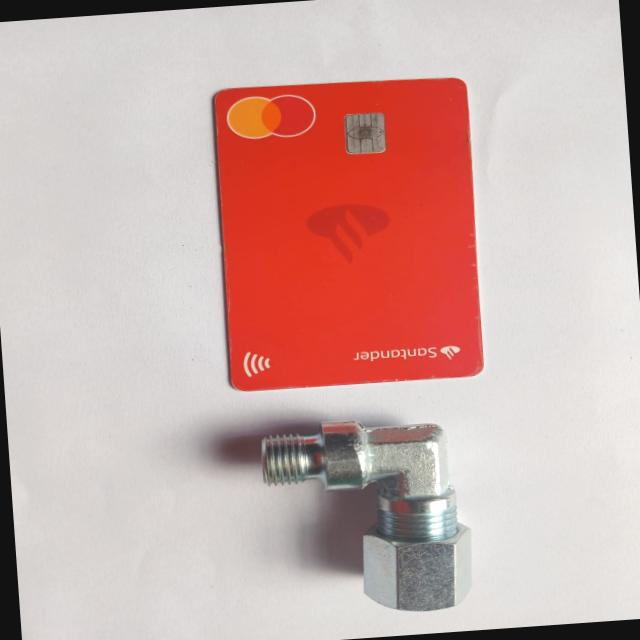cartao: (210, 71, 488, 393)
rosca_externa: (258, 412, 479, 622)
